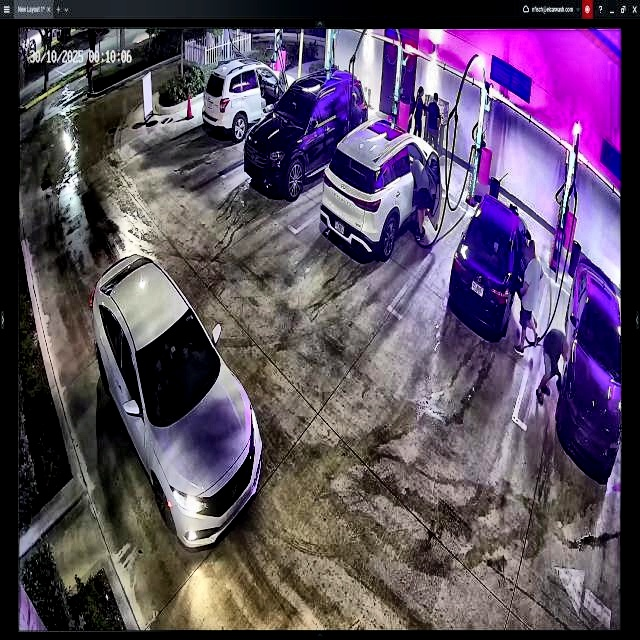Car: (91, 249, 264, 549), (324, 117, 441, 265), (243, 68, 368, 195), (447, 194, 532, 335), (202, 61, 299, 145)
